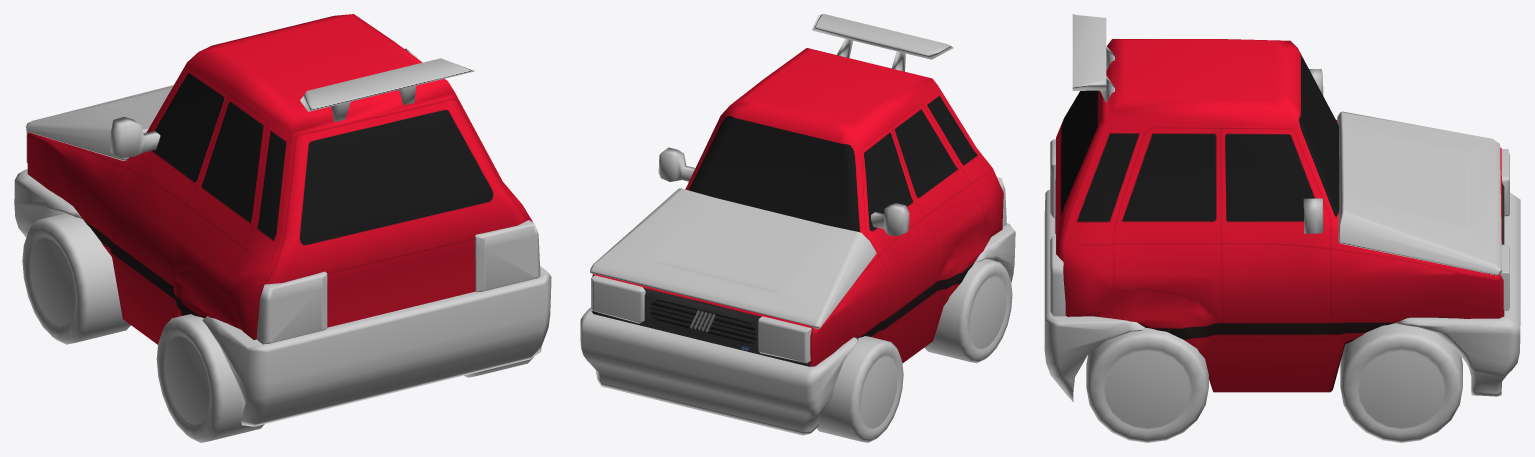
Rendered from carro 8.fbx.
3 views of the same model, side by side, from view 1: azimuth 30°, elevation 25°; view 2: azimuth 150°, elevation 25°; view 3: azimuth 270°, elevation 25° (orthographic). The views are drawn at different scales.
Parts seen in each view (by area): view 1: polySurface4, polySurface17, polySurface12, polySurface22, polySurface16, polySurface18, polySurface19, polySurface20, polySurface11, polySurface13; view 2: polySurface4, polySurface16, polySurface11, polySurface12, polySurface22, polySurface19, pCube29, pCube28, polySurface17, polySurface13, polySurface21; view 3: polySurface4, polySurface16, polySurface24, polySurface23, polySurface11, polySurface17, polySurface19, polySurface20, polySurface21, pCube29, pCube28.
Boxes of the visible parts, x1,y1,x2,y2 form: polySurface4: (27, 14, 532, 344); polySurface17: (202, 266, 551, 426); polySurface12: (22, 213, 130, 344); polySurface22: (156, 314, 264, 442); polySurface16: (25, 85, 173, 160); polySurface18: (256, 271, 327, 344); polySurface19: (300, 58, 474, 122); polySurface20: (475, 220, 540, 292); polySurface11: (14, 169, 82, 237); polySurface13: (110, 116, 160, 157); polySurface4: (591, 48, 1003, 366); polySurface16: (590, 188, 876, 329); polySurface11: (580, 307, 858, 435); polySurface12: (816, 336, 903, 442); polySurface22: (924, 259, 1012, 363); polySurface19: (812, 14, 953, 71); pCube29: (591, 275, 645, 323); pCube28: (758, 316, 811, 363); polySurface17: (976, 223, 1015, 282); polySurface13: (871, 203, 909, 235); polySurface21: (658, 147, 695, 181); polySurface4: (1055, 39, 1504, 392); polySurface16: (1337, 111, 1501, 275); polySurface24: (1340, 323, 1462, 442); polySurface23: (1086, 328, 1208, 442); polySurface11: (1394, 192, 1520, 396); polySurface17: (1044, 189, 1145, 401); polySurface19: (1072, 14, 1114, 102); polySurface20: (1050, 234, 1065, 316); polySurface21: (1303, 198, 1323, 233); pCube29: (1500, 244, 1509, 310); pCube28: (1501, 149, 1509, 216).
Bounding box in the file's own units: 12.05 × 11.75 × 15.74.
